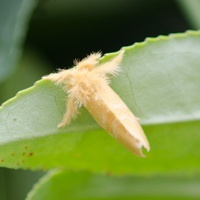insect: (42, 50, 149, 156)
